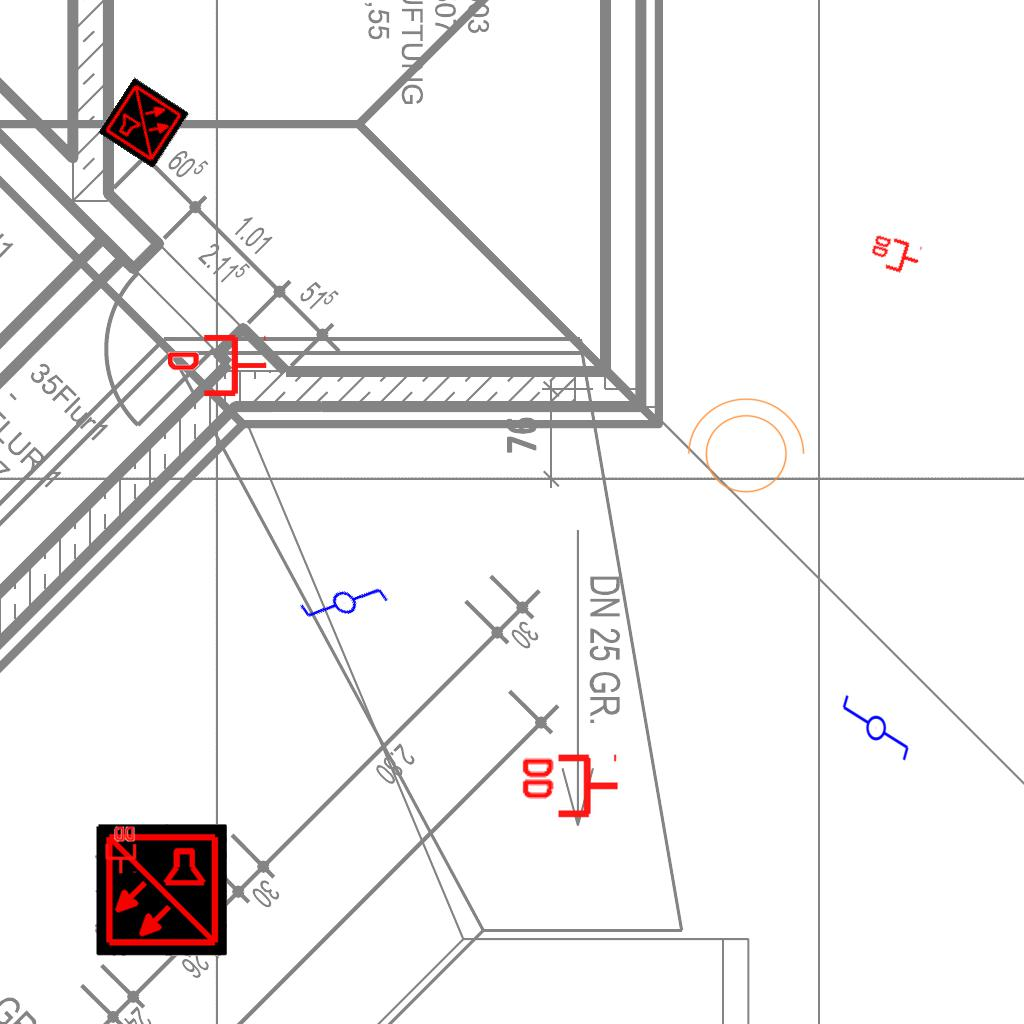Datenanschluss_einfach: (168, 331, 268, 400)
Datenanschluss_zweifach: (518, 753, 621, 822), (865, 231, 925, 280), (103, 824, 137, 875)
OKW_Multisensormelder_(Kombination_optischer_Rauch-Kahlenmonoxid_Waerme-Melder): (95, 824, 227, 956), (98, 77, 190, 169)
Scheinwerfer_fuer_Alarmbeleuchtung: (677, 393, 809, 505)
Wechselschalter: (294, 553, 400, 659), (839, 693, 911, 771)
